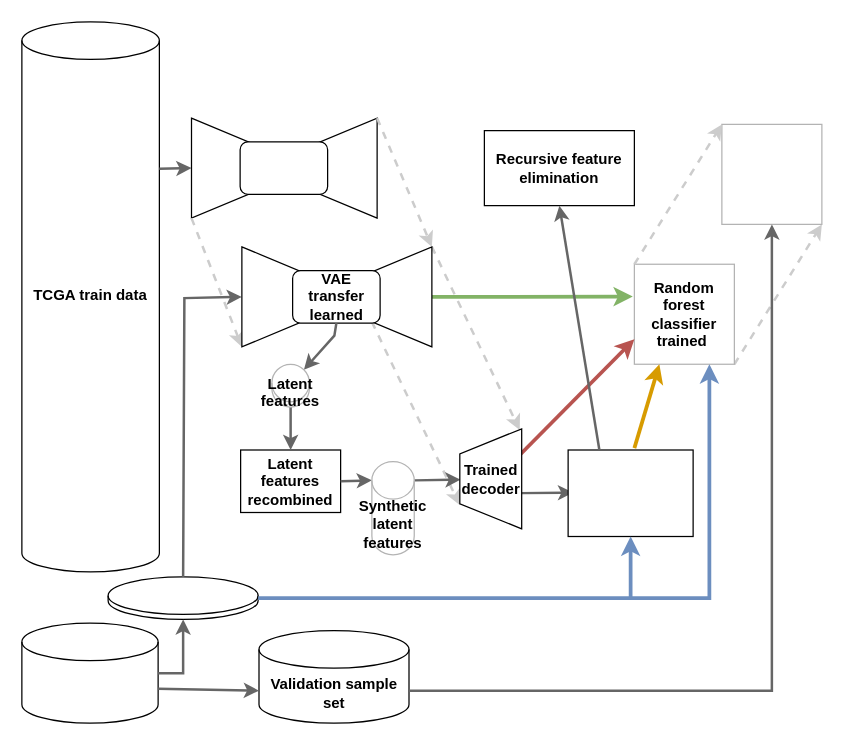
This 855x745 diagram has some shape labels left out. Each missing label, with the box of its shape:
Cancer cohort n: (21, 622, 158, 723)
Original sample set: (107, 576, 258, 619)
Predictions on validation set: (721, 123, 822, 224)
Synthetic-from-latent and original data mixed: (567, 449, 693, 536)
VAE trained: (239, 141, 328, 194)
